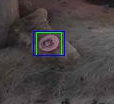text: (36, 32, 61, 55)
